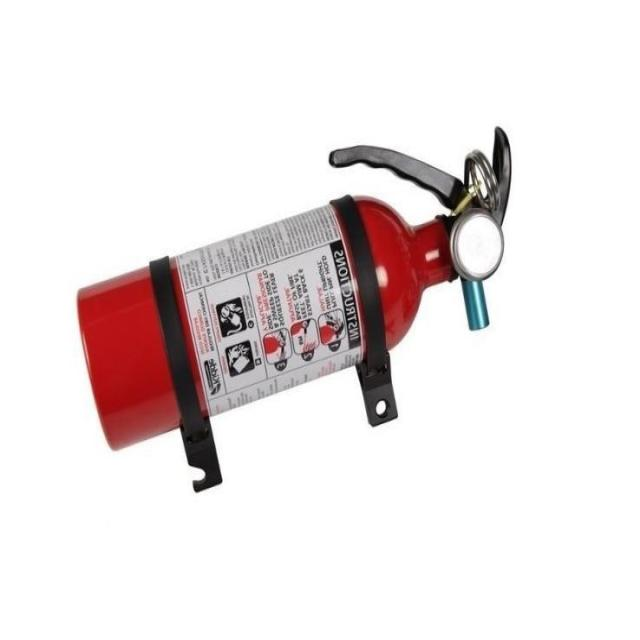fire_extinguisher: (74, 121, 516, 456)
